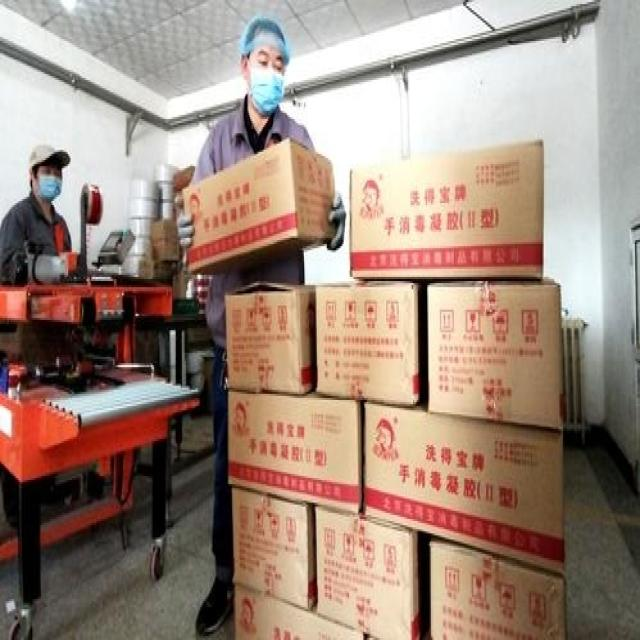box: (360, 402, 566, 576), (350, 141, 544, 279), (426, 274, 563, 431), (183, 140, 334, 274), (226, 387, 361, 516), (317, 508, 420, 637), (313, 283, 419, 408), (429, 542, 564, 637), (231, 486, 317, 609), (223, 285, 317, 395), (233, 582, 369, 636)
